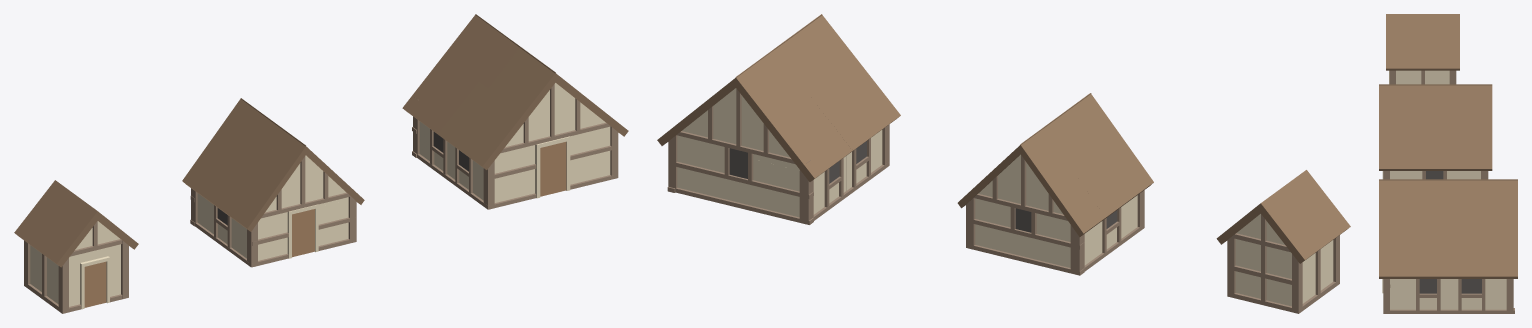
Rendered from Домики.fbx.
The picture shows the model from 3 angles, left to right: view 1: azimuth 30°, elevation 25°; view 2: azimuth 150°, elevation 25°; view 3: azimuth 270°, elevation 25°; orthographic projection. The views are drawn at different scales.
Visible parts, largest first — view 1: mergedBlocks.001, mergedBlocks.002, mergedBlocks; view 2: mergedBlocks.001, mergedBlocks.002, mergedBlocks; view 3: mergedBlocks.001, mergedBlocks.002, mergedBlocks.
Part boxes in pixels (x1,y1,x2,y2): mergedBlocks.001: (402, 14, 628, 209); mergedBlocks.002: (182, 98, 364, 267); mergedBlocks: (14, 180, 138, 313); mergedBlocks.001: (657, 14, 900, 224); mergedBlocks.002: (957, 93, 1153, 275); mergedBlocks: (1216, 170, 1350, 313); mergedBlocks.001: (1379, 179, 1517, 313); mergedBlocks.002: (1379, 84, 1492, 179); mergedBlocks: (1386, 14, 1459, 84).
Bounding box in the file's own units: 890 × 191 × 217.
